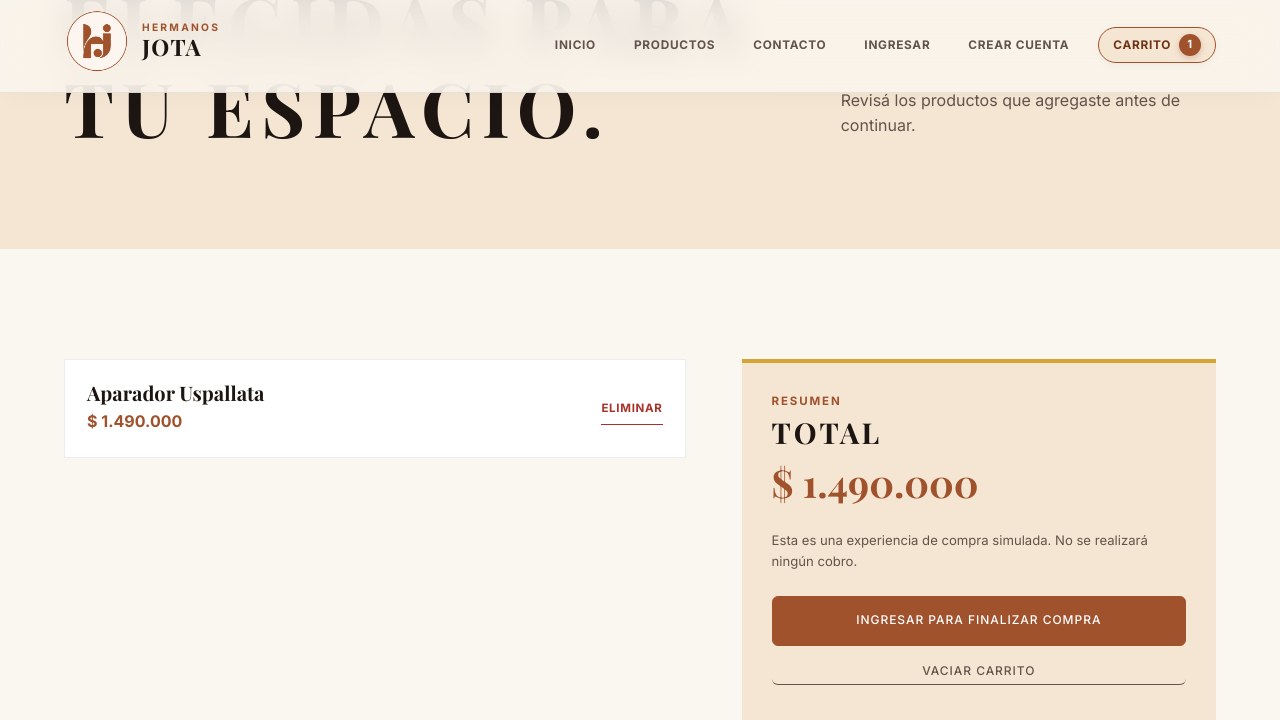
Test: inicializa el carrito desde localStorage y permite eliminar productos
This screenshot has width=1280, height=720.
(page scrolled)
Expected: the text named "Productos en el carrito" reads "1", [1187,37,1193,51]
Expected: the heading "Aparador Uspallata" is shown, [87,382,264,404]
Click the button "Eliminar".
click(632, 408)  # box [601,392,663,425]
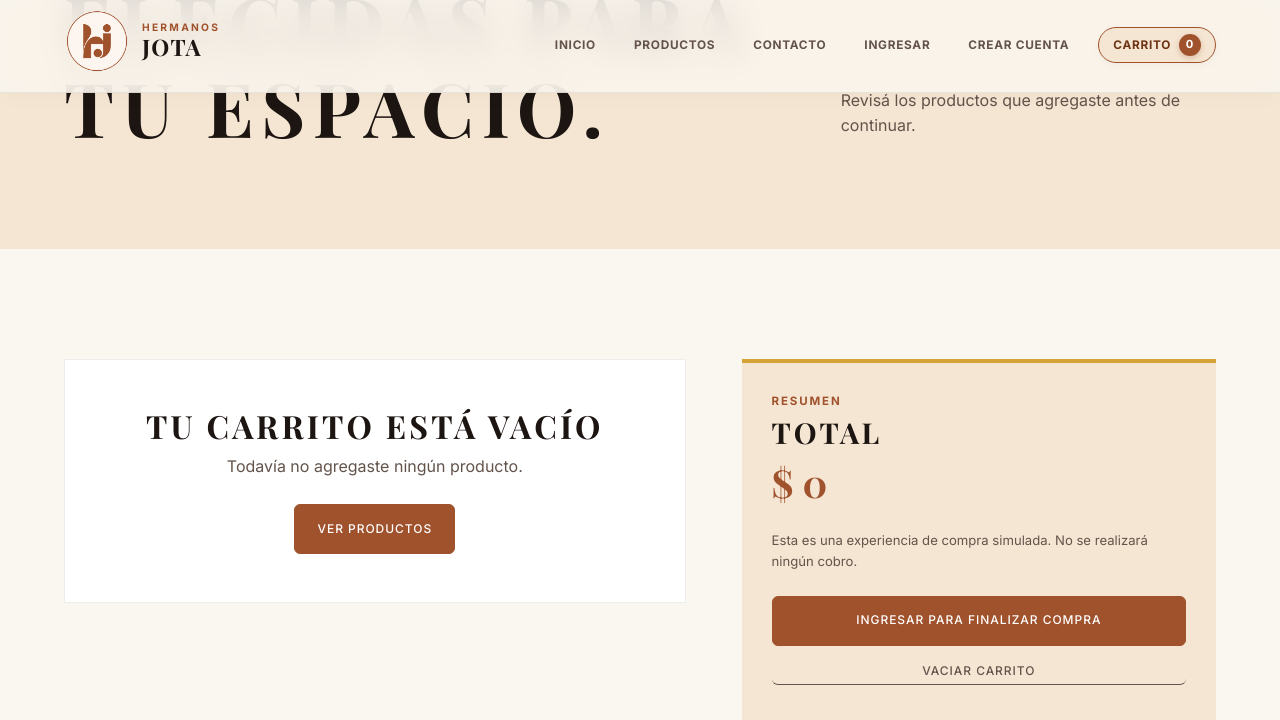
Expected: the heading "Tu carrito está vacío" is shown, [146,404,604,447]
